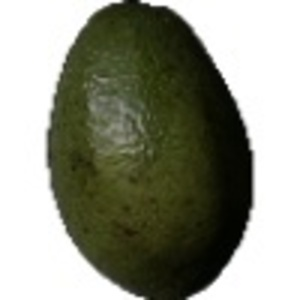abacate: (41, 2, 255, 299)
